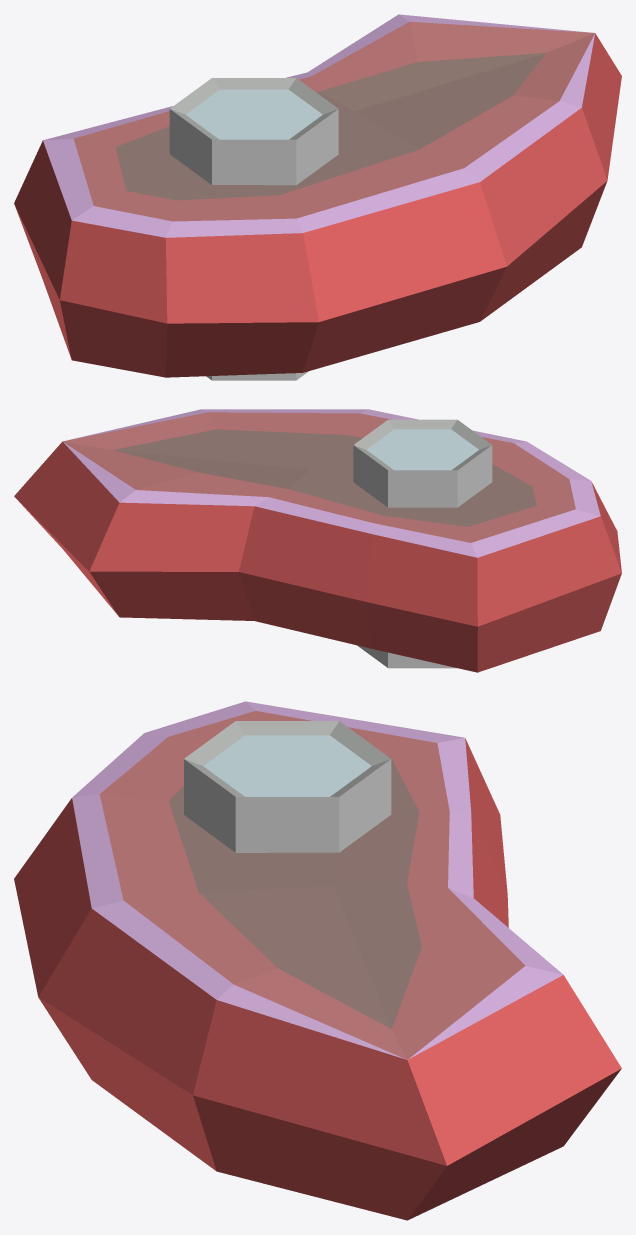
File: Raw meat.fbx
3 views of the same model, one above another, from view 1: azimuth 30°, elevation 25°; view 2: azimuth 150°, elevation 25°; view 3: azimuth 270°, elevation 25° (orthographic). The views are drawn at different scales.
Visible parts, largest first — view 1: Raw meat; view 2: Raw meat; view 3: Raw meat.
Boxes of the visible parts, <box> form: Raw meat: <box>14,14,621,380</box>; Raw meat: <box>14,409,621,672</box>; Raw meat: <box>14,701,621,1220</box>.
Bounding box in the file's own units: 24.1 × 8.52 × 15.88.
